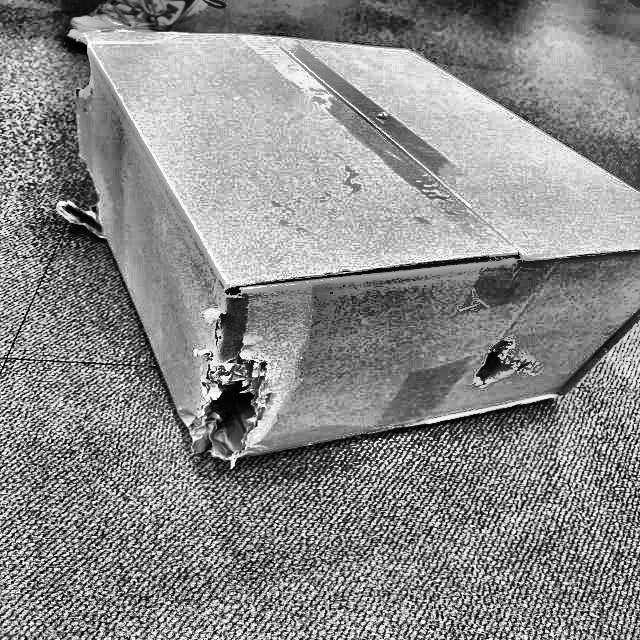box: (58, 13, 640, 465)
hole: (181, 371, 277, 465), (479, 336, 537, 396)
